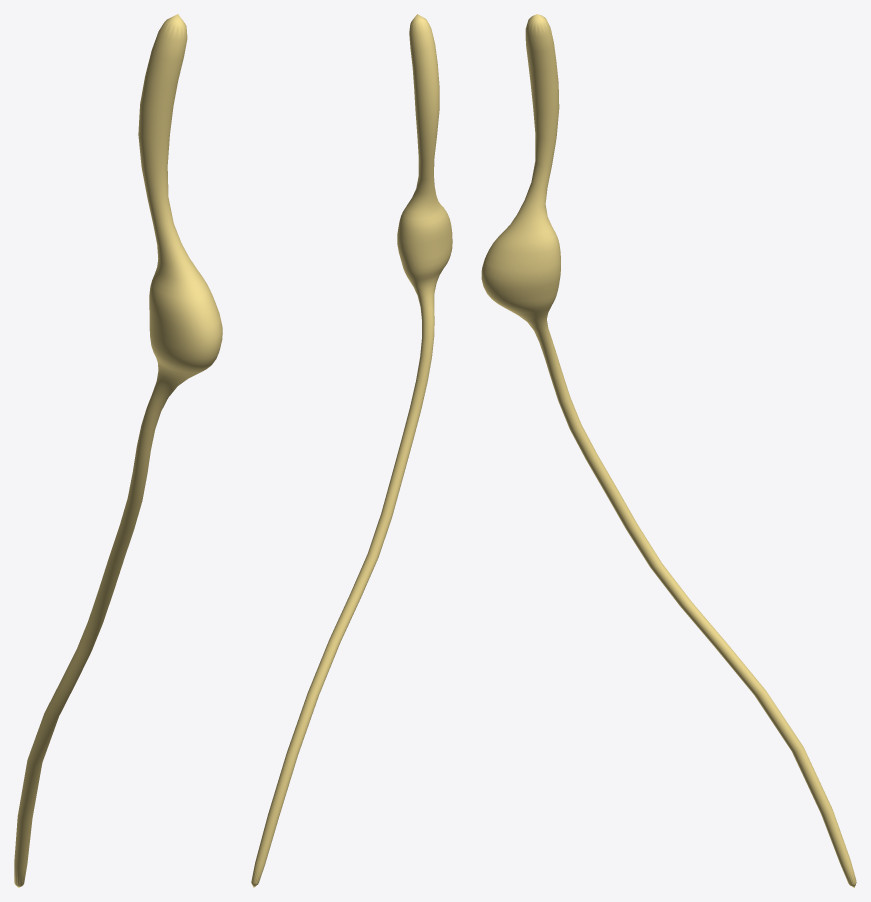
3 renders of one model, left to right at view 1: azimuth 30°, elevation 25°; view 2: azimuth 150°, elevation 25°; view 3: azimuth 270°, elevation 25°, orthographic. The views are drawn at different scales.
Parts seen in each view (by area): view 1: ZA_78dc4c23085e3353; view 2: ZA_78dc4c23085e3353; view 3: ZA_78dc4c23085e3353.
Part boxes in pixels (left/top/right/bottom): ZA_78dc4c23085e3353: left=14, top=14, right=222, bottom=887; ZA_78dc4c23085e3353: left=251, top=14, right=452, bottom=887; ZA_78dc4c23085e3353: left=481, top=14, right=856, bottom=887.
Size of the model in its own units: 0.00439 by 0.0668 by 0.0263.
